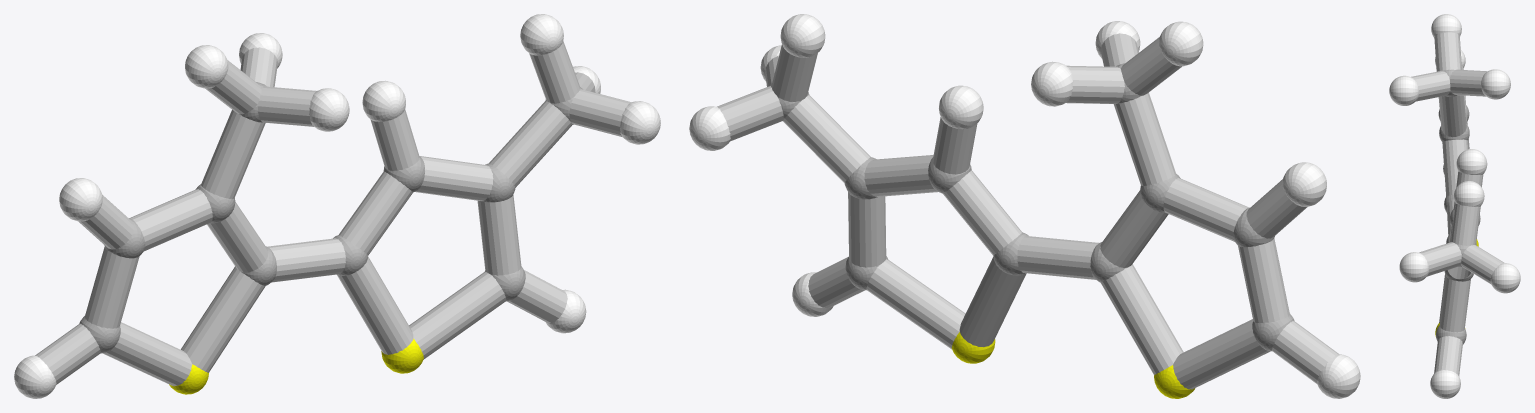
Rendered from Methylthiophene_Phi_5_Theta_170_Methylthiophene.glb.
3 renders of one model, left to right at view 1: azimuth 30°, elevation 25°; view 2: azimuth 150°, elevation 25°; view 3: azimuth 270°, elevation 25°, orthographic. The views are drawn at different scales.
Parts seen in each view (by area): view 1: grp7965, grp3621, grp1, grp7241; view 2: grp7965, grp3621, grp1, grp7241; view 3: grp7965, grp3621, grp1.
Part boxes in pixels (<box>): grp7965: <box>35,41,631,386</box>; grp3621: <box>14,14,660,398</box>; grp1: <box>79,82,582,353</box>; grp7241: <box>169,338,423,394</box>; grp7965: <box>717,33,1338,389</box>; grp3621: <box>689,14,1360,398</box>; grp1: <box>769,63,1294,351</box>; grp7241: <box>951,332,1195,398</box>; grp7965: <box>1411,32,1504,376</box>; grp3621: <box>1389,14,1520,398</box>; grp1: <box>1436,69,1480,344</box>.
Bounding box in the file's own units: 9.73 × 5.68 × 2.57.
